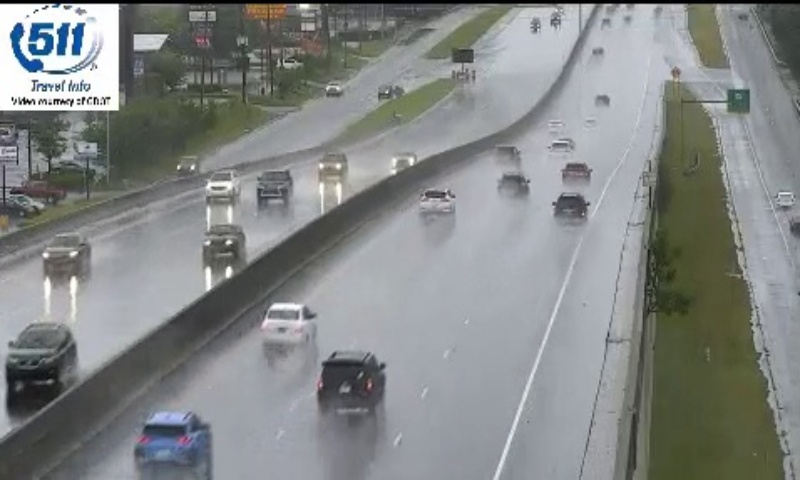car: (133, 411, 214, 466), (316, 350, 383, 409), (261, 302, 314, 346), (418, 188, 455, 217), (554, 192, 587, 221), (497, 174, 527, 199), (562, 161, 590, 183)
